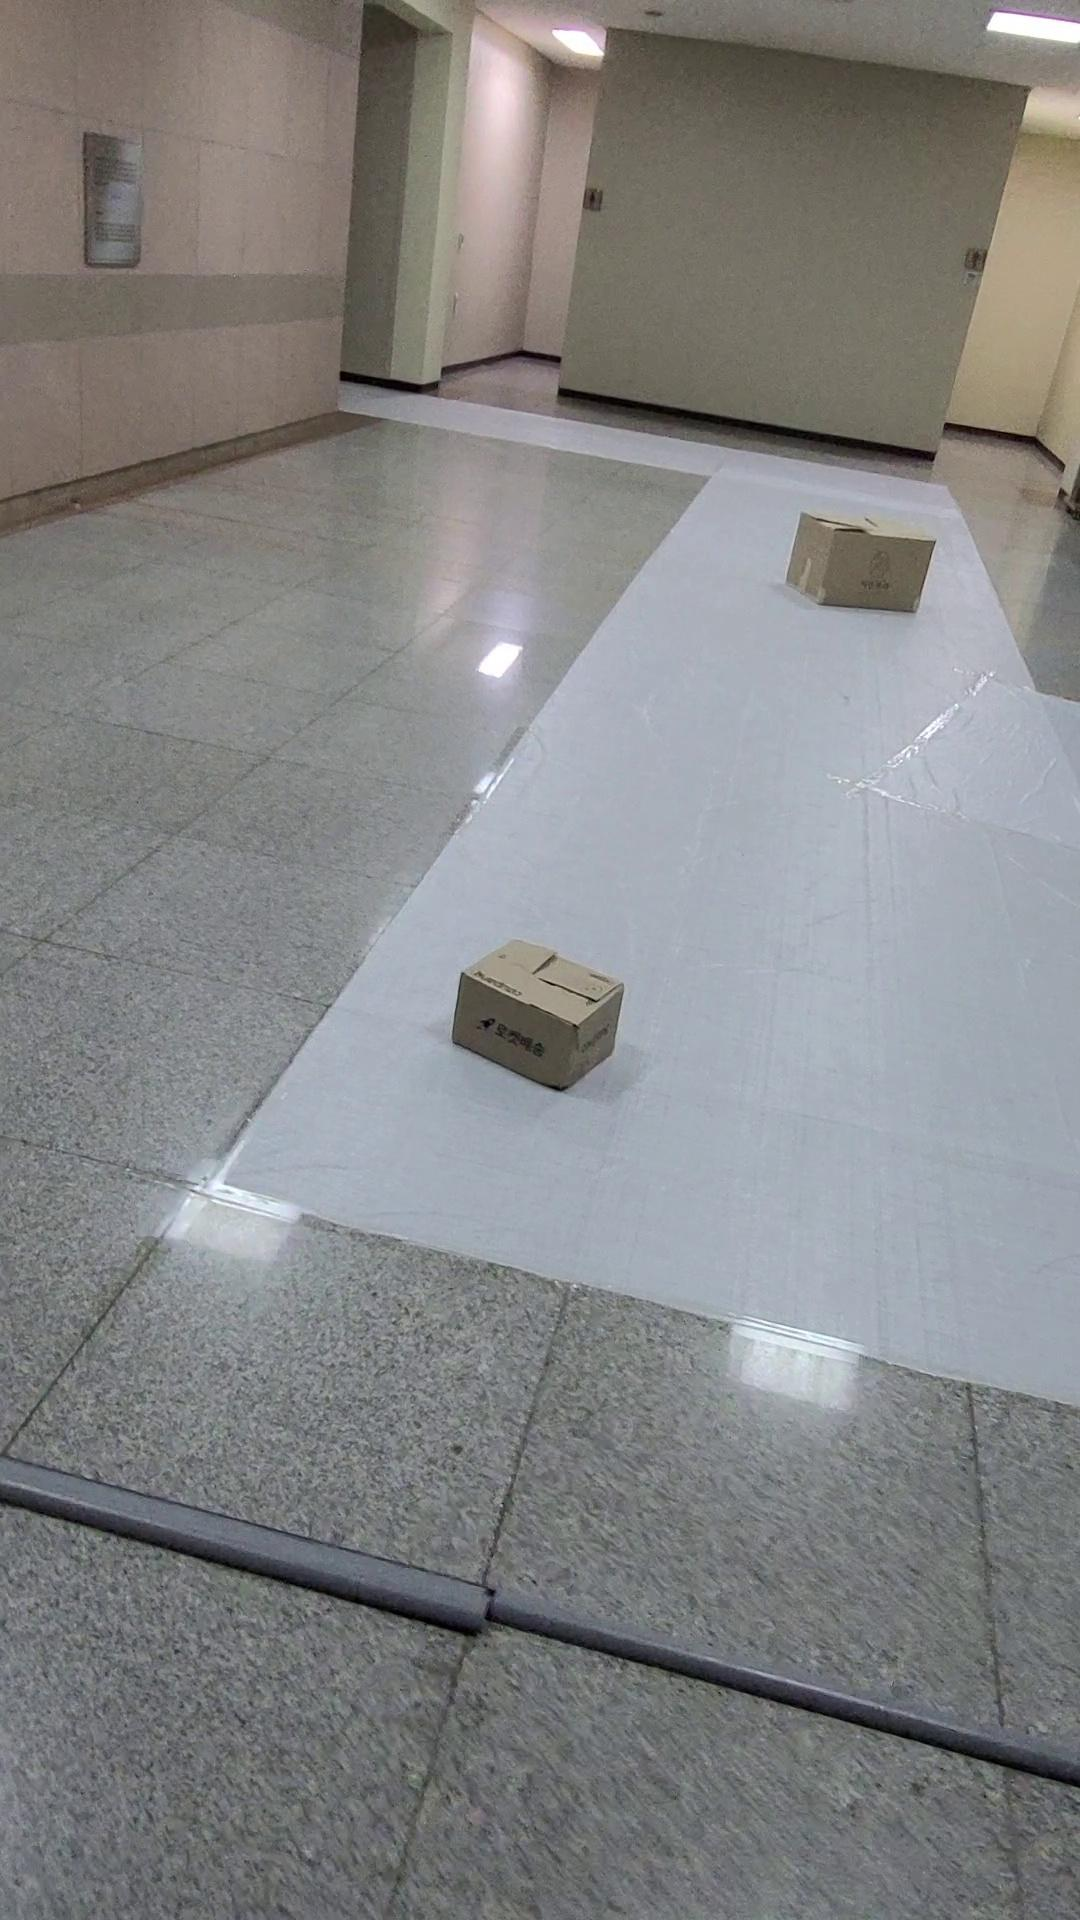Box: (458, 895, 636, 1092), (771, 480, 947, 636)
